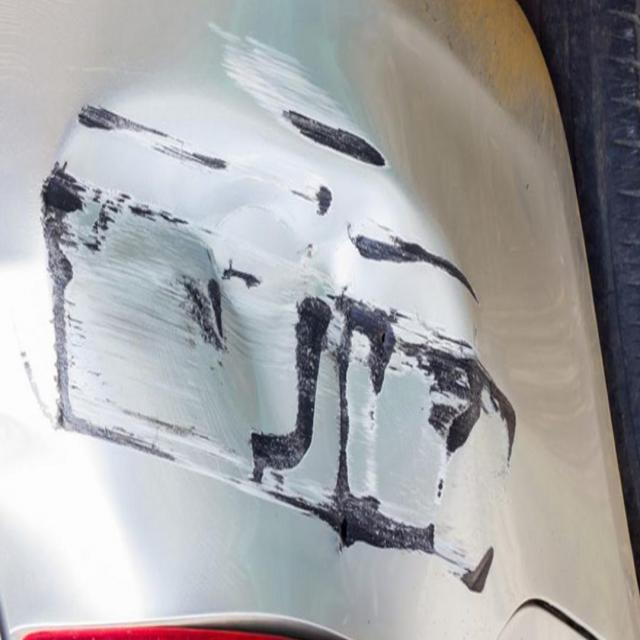dent: (33, 38, 540, 640)
